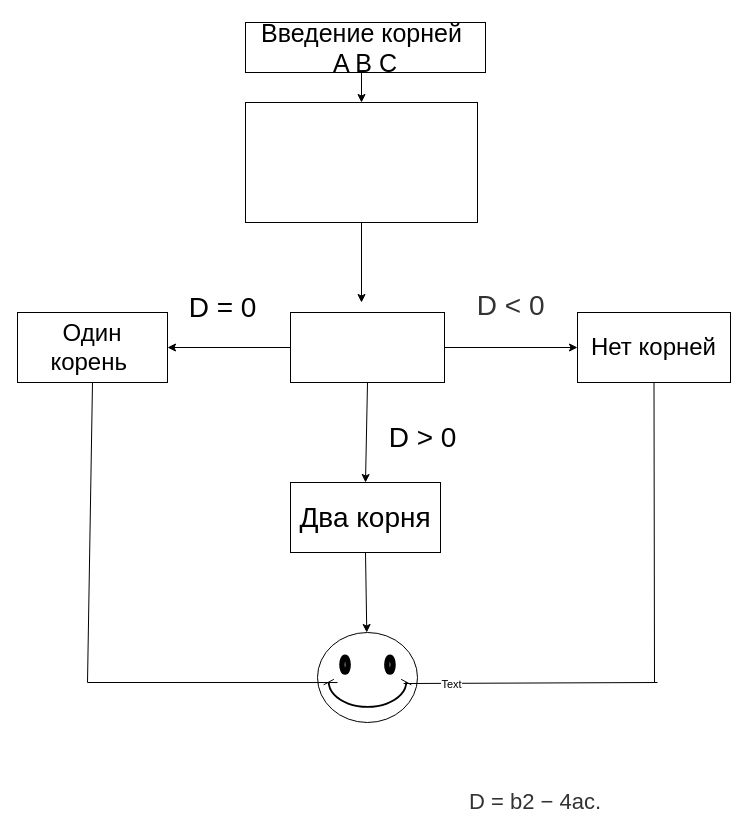
This 748x839 diagram has some shape labels left out. The centre of each missing label's shape, as x and y in pixels:
"Вычисление по формуле D = b2 − 4ac." goes at (x=361, y=162).
"Чему Равен D" goes at (x=367, y=347).
